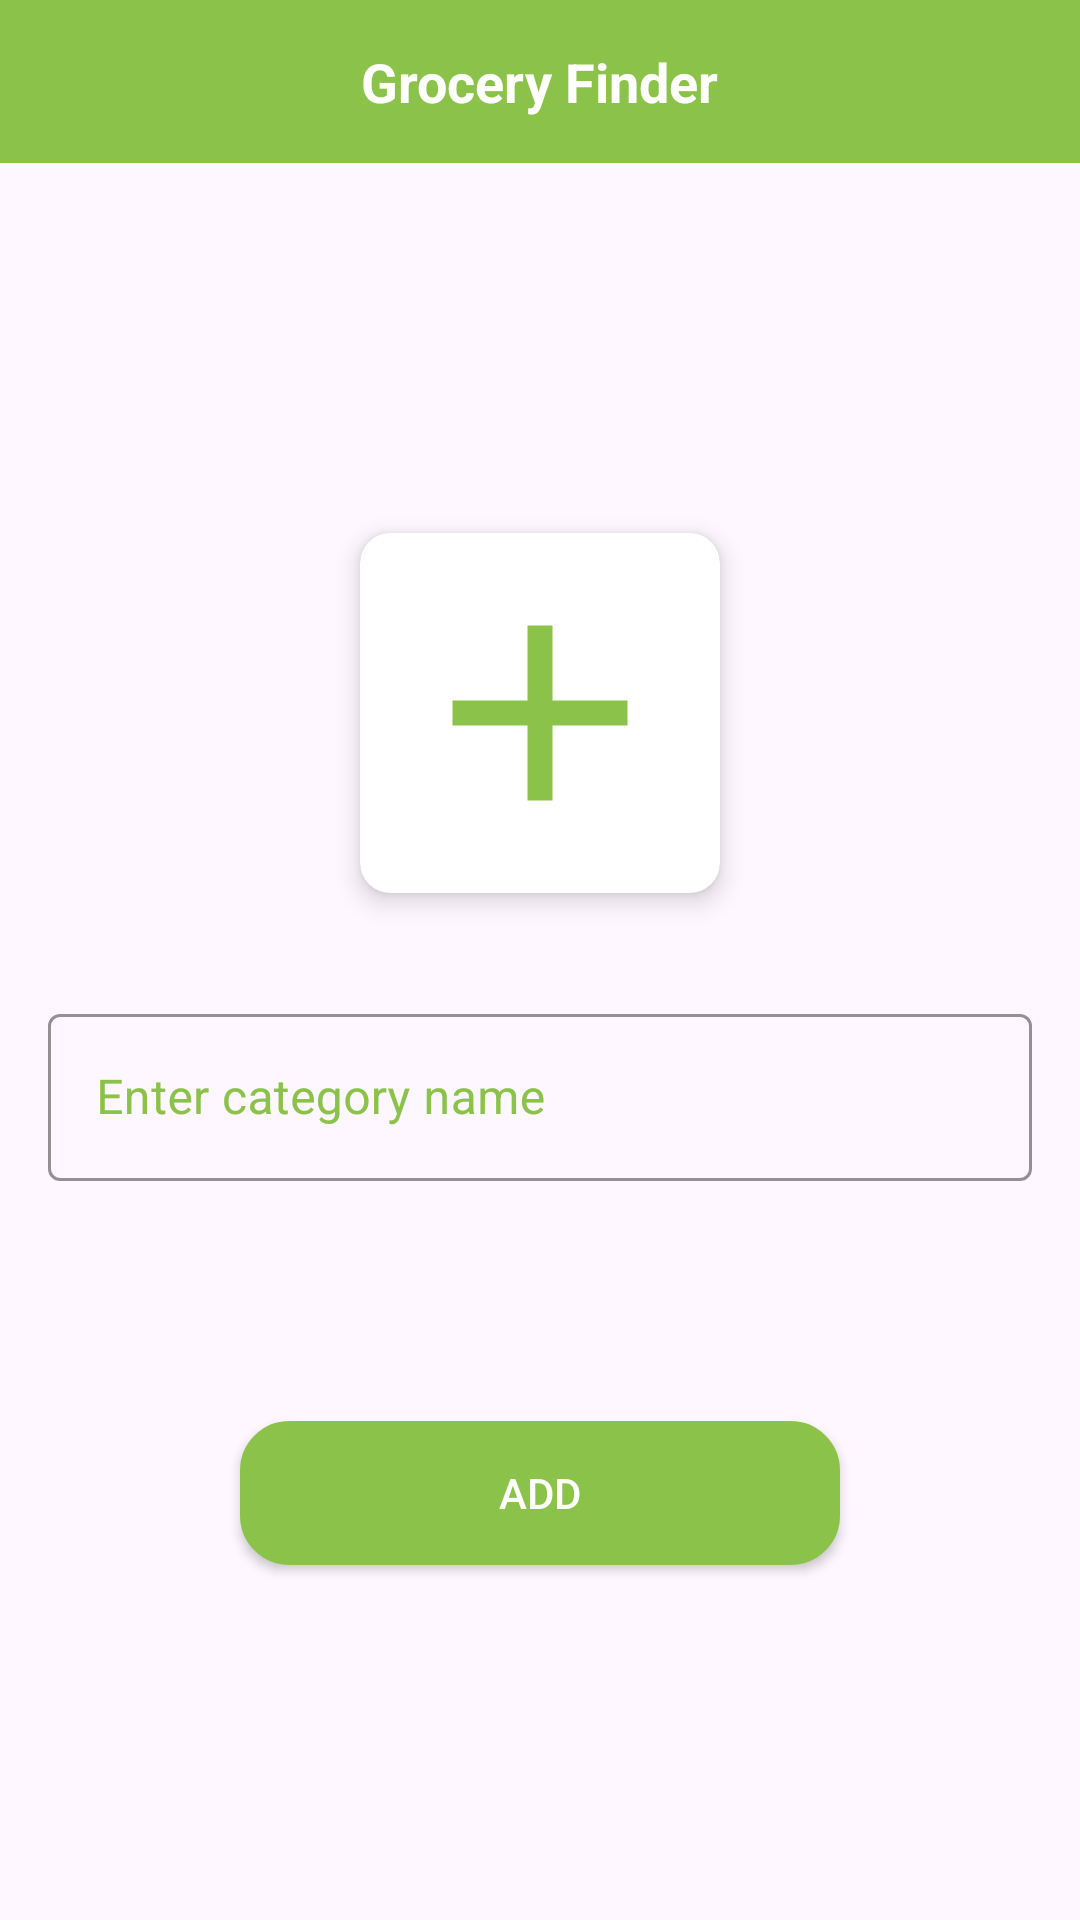

Icon click points for this 1080 x 1920 phone screenshot, format (x=x, y=y):
add: (x=540, y=713)
